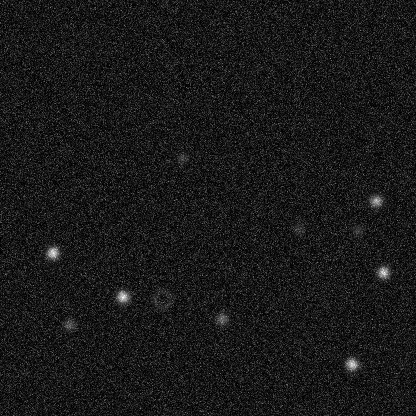Ring: (150, 287, 174, 311)
Spot: (61, 316, 77, 332), (375, 264, 391, 280), (349, 222, 365, 238), (290, 221, 306, 237), (214, 310, 230, 326), (174, 150, 190, 166), (367, 192, 383, 208), (44, 244, 60, 260), (114, 288, 130, 304), (343, 356, 359, 372)
